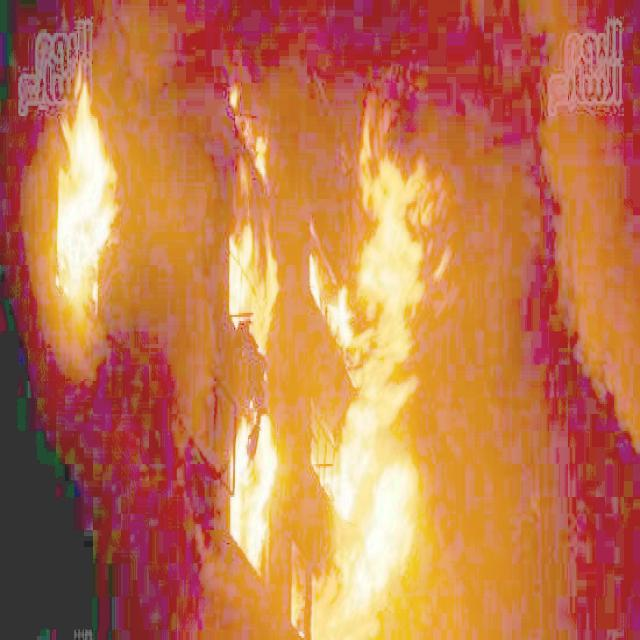api: (344, 101, 426, 608), (59, 110, 127, 290), (231, 224, 284, 348), (245, 420, 290, 566)
asap: (528, 138, 640, 484)
